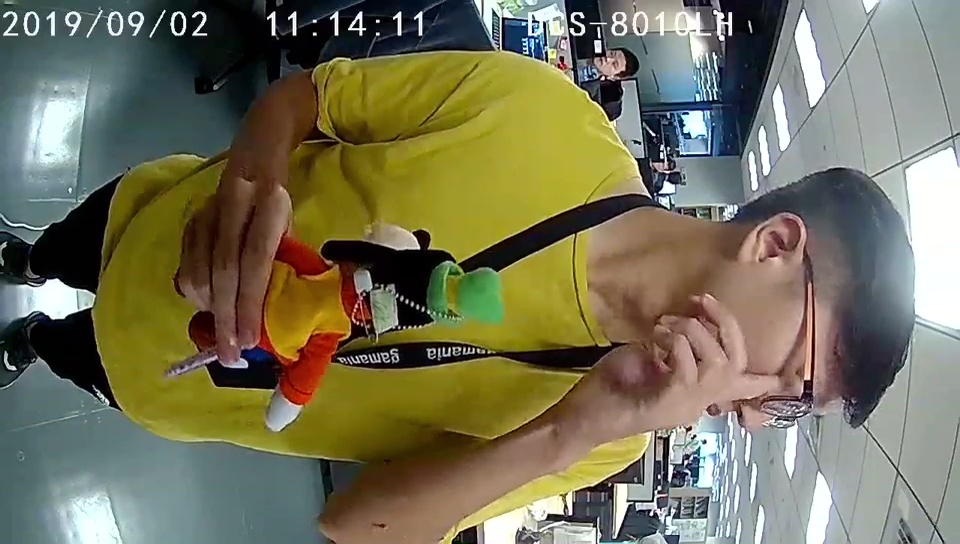goofy: (264, 242, 503, 433)
